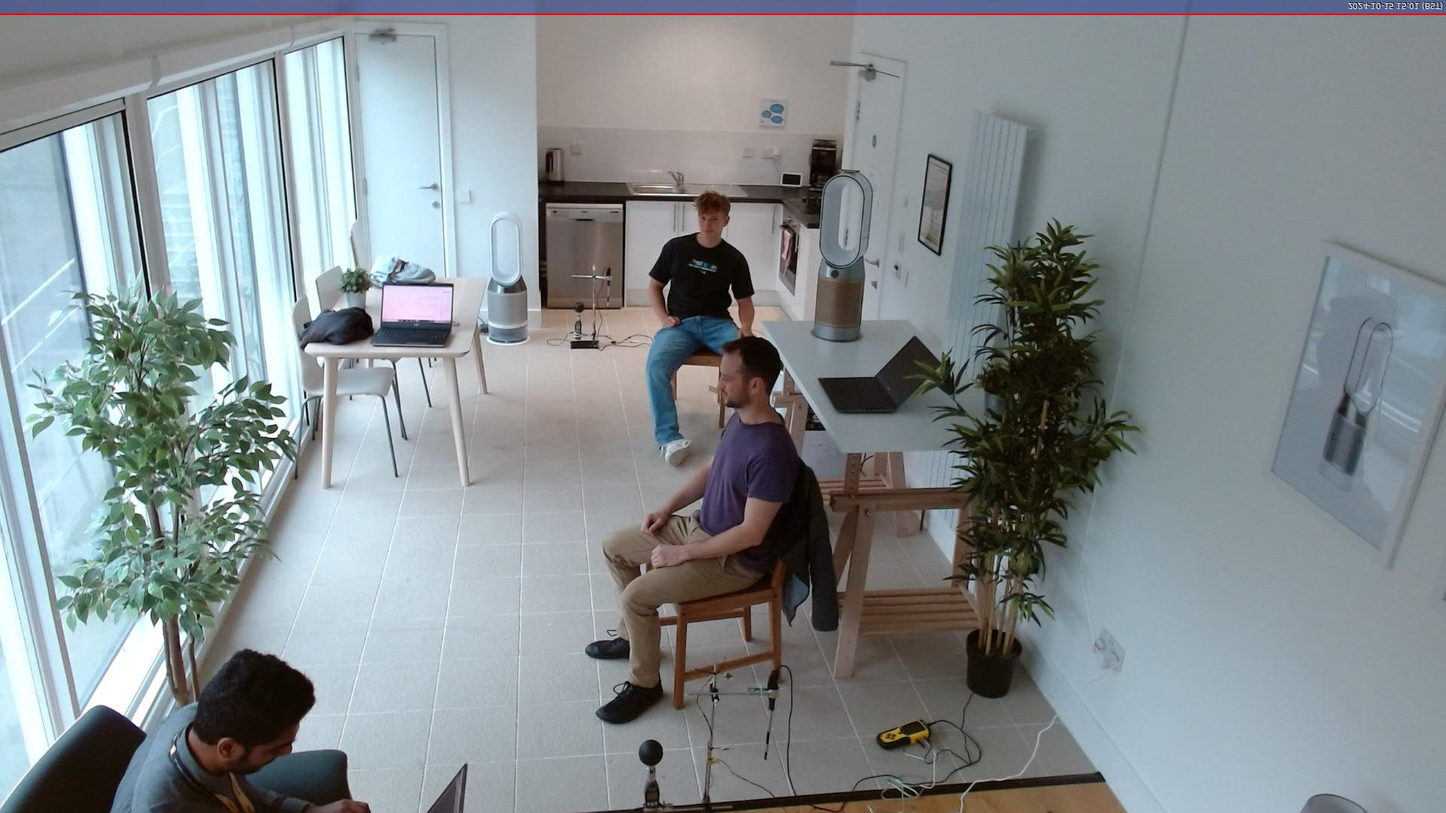long sleeve shirt: (107, 701, 315, 813)
short sleeve shirt: (690, 409, 798, 574), (646, 230, 756, 321)
trousers: (599, 507, 763, 690), (644, 316, 753, 446)
